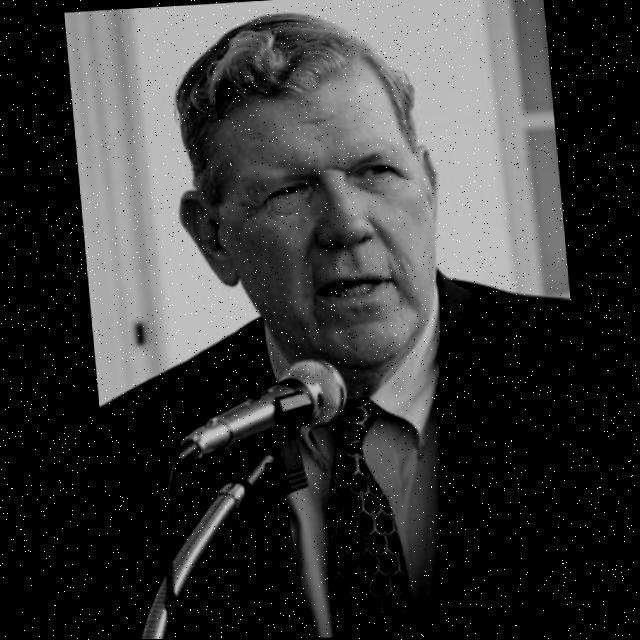face: (197, 72, 445, 381)
